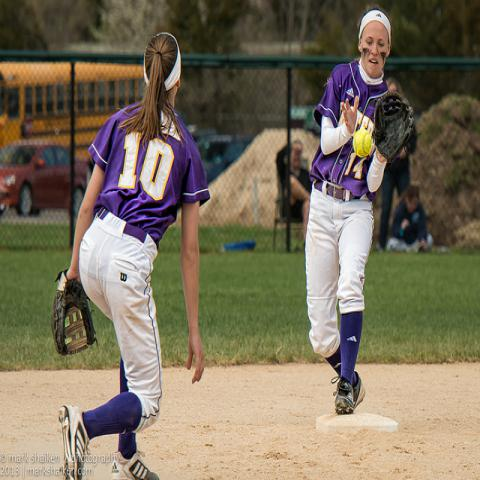bus: (0, 60, 149, 171)
car: (1, 141, 90, 220), (196, 132, 255, 186)
